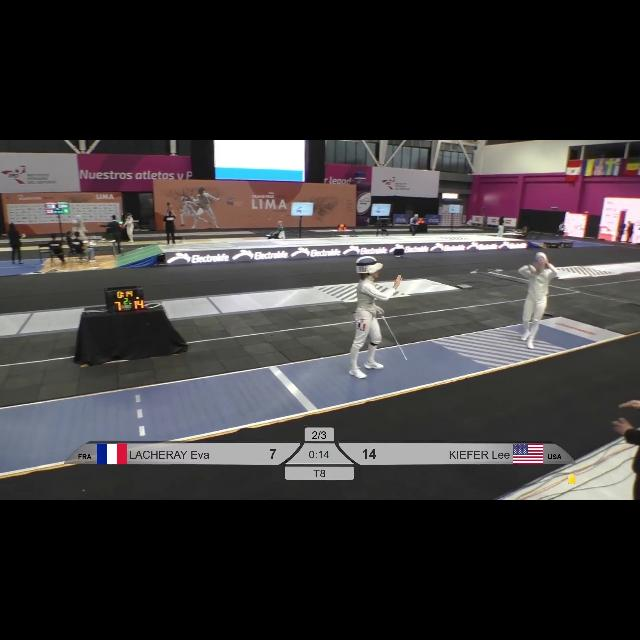blade: (378, 307, 412, 363)
